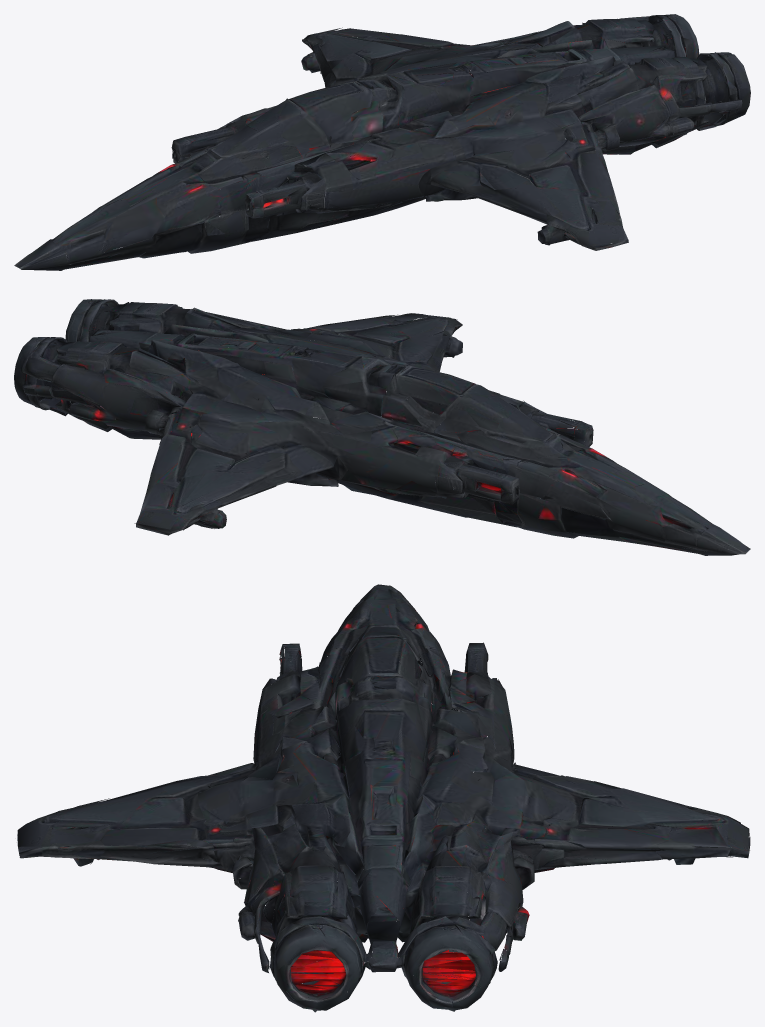
File: striz_b.glb
The picture shows the model from 3 angles, top to bottom: view 1: azimuth 30°, elevation 25°; view 2: azimuth 150°, elevation 25°; view 3: azimuth 270°, elevation 25°; orthographic projection. The views are drawn at different scales.
Parts seen in each view (by area): view 1: Mesh_0; view 2: Mesh_0; view 3: Mesh_0.
Part boxes in pixels (bbox=[...]): Mesh_0: bbox=[14, 14, 750, 270]; Mesh_0: bbox=[14, 299, 750, 555]; Mesh_0: bbox=[17, 584, 750, 1012].
Bounding box in the file's own units: 1.9 × 0.3221 × 1.37.
Materials: 1 (1 with a texture image).
